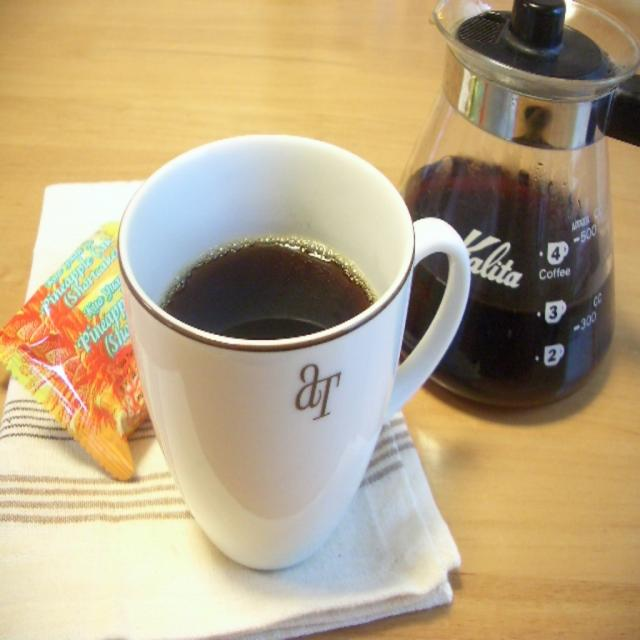Coffee: (129, 119, 492, 583), (400, 162, 619, 406)
Tea: (159, 240, 376, 345)
